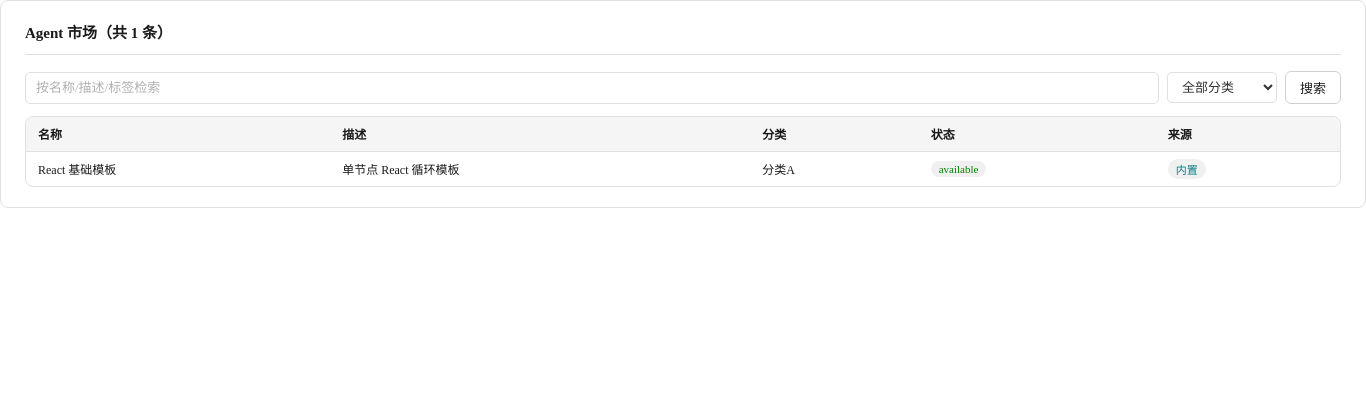
Test case: AgentMarketPanel › TC-AMP-06 回调未注入 → 「应用模板」降级提示（不写画布，T16.6）
Expected: the table with test id "agent-market-table" is shown, [25,116,1341,187]
Click the row with test id "agent-market-entry-e1" at point(77, 170), box [26,152,1340,186]
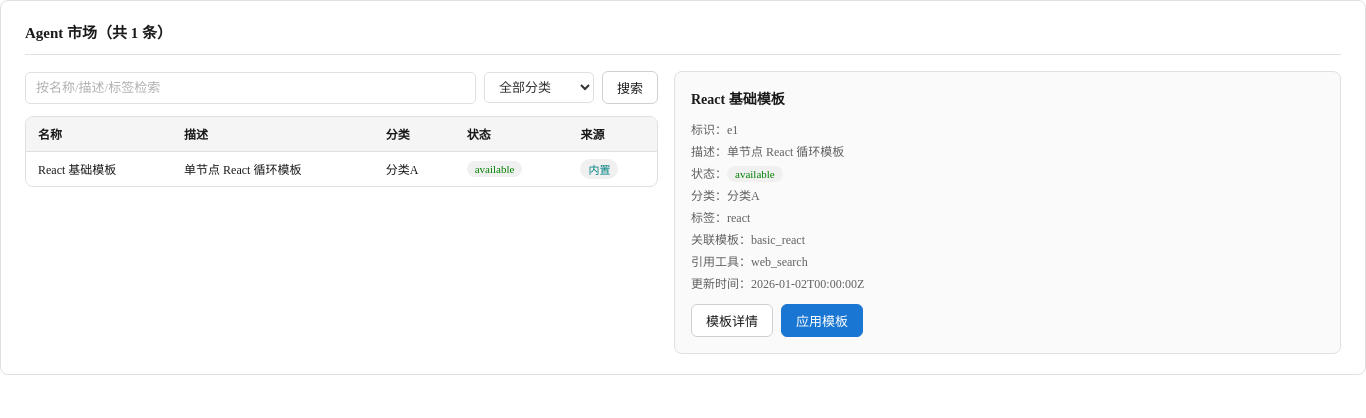
Click the button with test id "agent-market-apply-button" at point(822, 320), box [781,304,863,337]
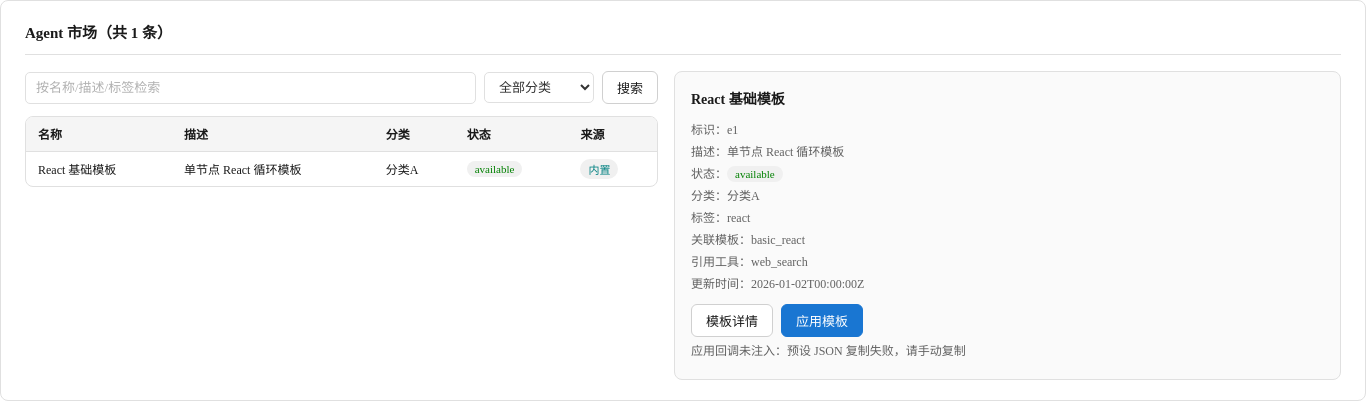
Expected: the text with test id "agent-market-apply-hint" shows "应用回调未注入", [691,344,966,358]
